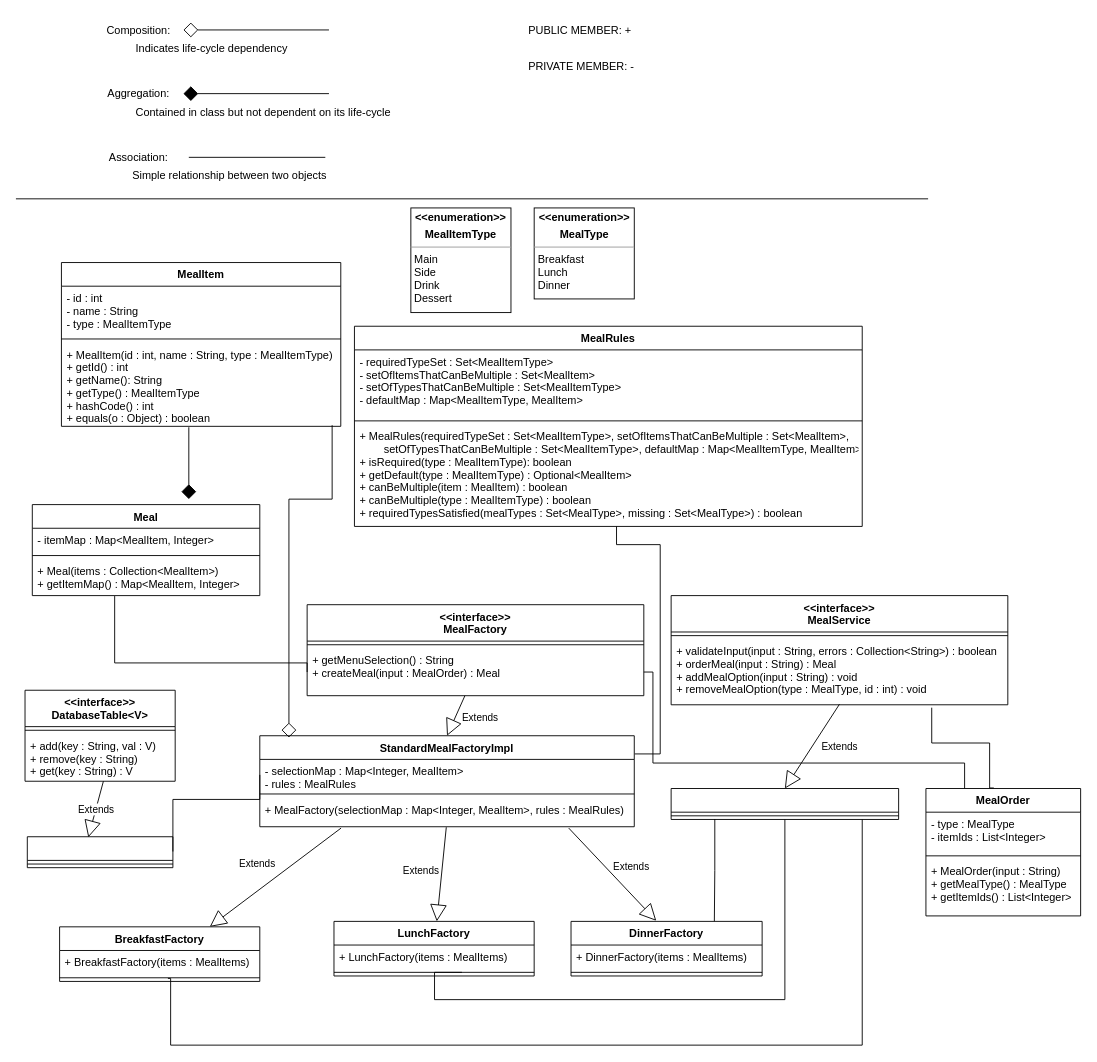
This 1097x1062 diagram has some shape labels left out. Each missing label, with the centre of its shape:
MealItems: point 99,852
MealServiceImpl: point 784,803
